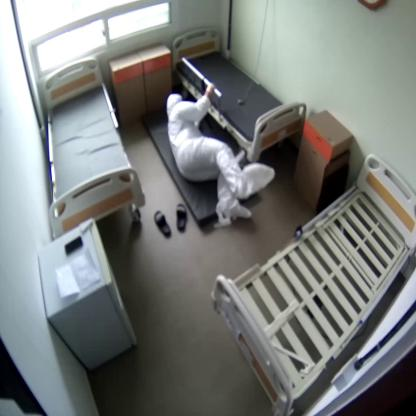Person: (167, 84, 265, 217)
